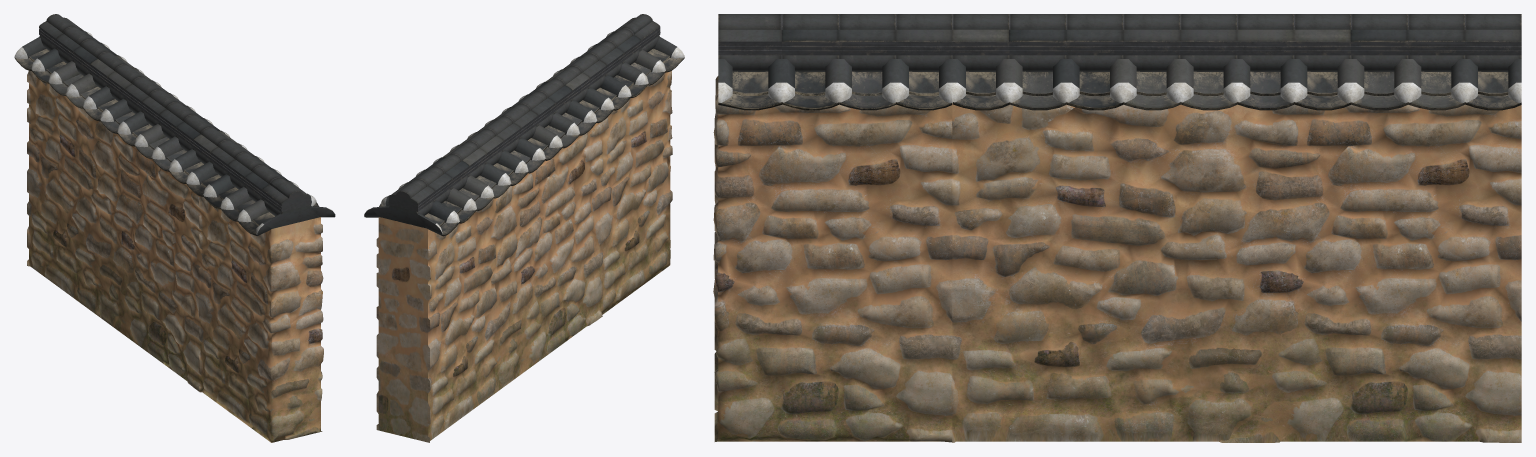
File: SM_Stonewall04a.fbx
3 renders of one model, left to right at view 1: azimuth 30°, elevation 25°; view 2: azimuth 150°, elevation 25°; view 3: azimuth 270°, elevation 25°, orthographic. The views are drawn at different scales.
Parts seen in each view (by area): view 1: SM_Stonewall04a; view 2: SM_Stonewall04a; view 3: SM_Stonewall04a.
Part boxes in pixels (x1,y1,x2,y2): SM_Stonewall04a: (14, 14, 335, 442); SM_Stonewall04a: (364, 14, 684, 442); SM_Stonewall04a: (713, 14, 1521, 442).
Size of the model in its own units: 79.44 by 426 by 236.
Materials: 2 (2 with a texture image).
